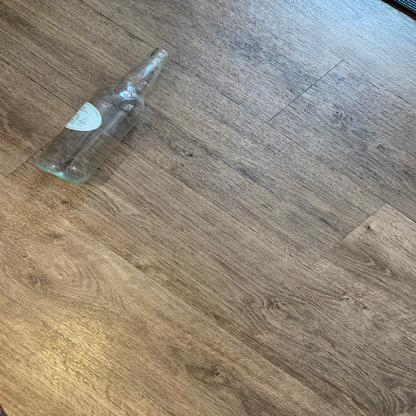trash: (35, 44, 176, 189)
